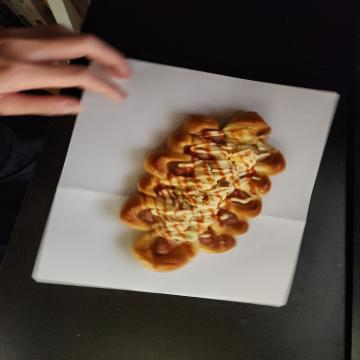pizza_bread: (108, 77, 273, 240)
